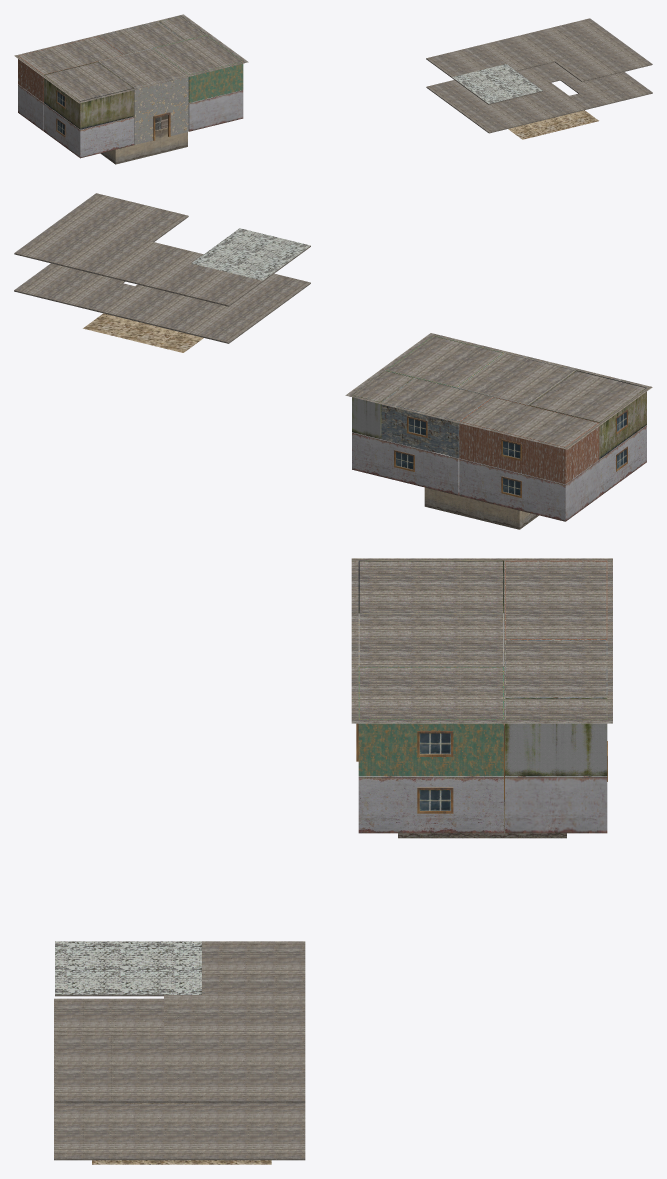
Rendered from walkable.fbx.
3 views of the same model, one above another, from view 1: azimuth 30°, elevation 25°; view 2: azimuth 150°, elevation 25°; view 3: azimuth 270°, elevation 25° (orthographic). The views are drawn at different scales.
Visible parts, largest first — view 1: HouseWalls, HouseFloor; view 2: HouseWalls, HouseFloor; view 3: HouseWalls, HouseFloor.
Boxes of the visible parts, x1,y1,x2,y2 form: HouseWalls: (14, 14, 248, 164); HouseFloor: (426, 18, 652, 139); HouseWalls: (345, 333, 652, 529); HouseFloor: (14, 193, 310, 352); HouseWalls: (351, 558, 612, 838); HouseFloor: (54, 941, 305, 1164).
Bounding box in the file's own units: 124 × 19.44 × 60.31.
